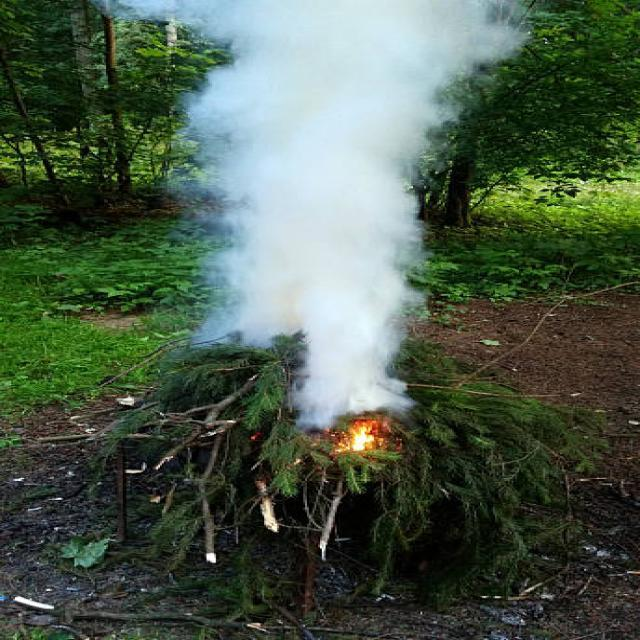Fire: (316, 418, 401, 456)
Smoke: (78, 0, 545, 417)
